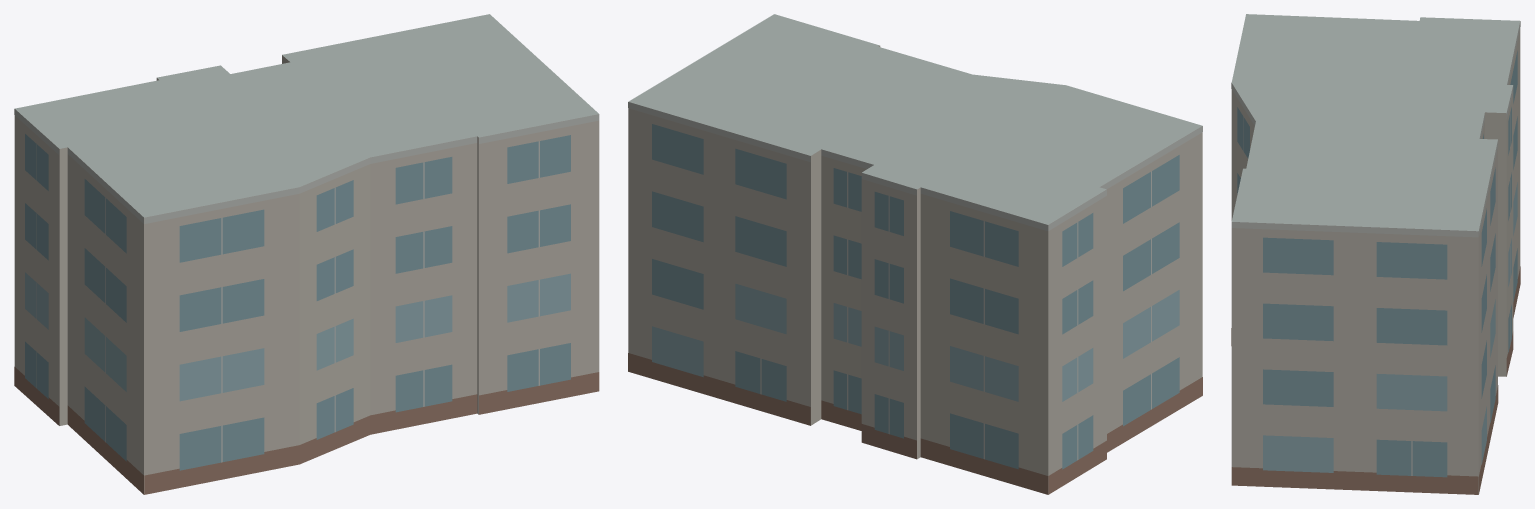
Rendered from survey-upis-32738945.glb.
The picture shows the model from 3 angles, left to right: view 1: azimuth 30°, elevation 25°; view 2: azimuth 150°, elevation 25°; view 3: azimuth 270°, elevation 25°; orthographic projection. The views are drawn at different scales.
Visible parts, largest first — view 1: survey-upis-32738945.tmp; view 2: survey-upis-32738945.tmp; view 3: survey-upis-32738945.tmp.
Boxes of the visible parts, left/top/right/bottom form: survey-upis-32738945.tmp: left=14, top=14, right=599, bottom=494; survey-upis-32738945.tmp: left=628, top=14, right=1202, bottom=494; survey-upis-32738945.tmp: left=1231, top=14, right=1520, bottom=494.
Size of the model in its own units: 18.38 by 10.4 by 10.33.
